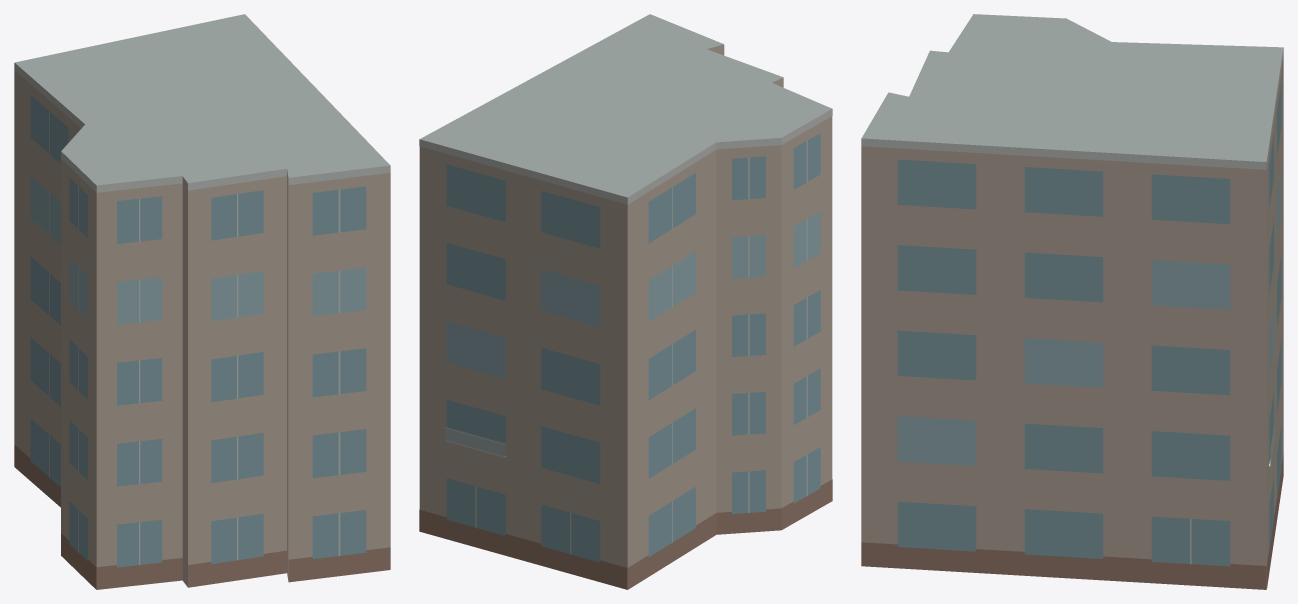
File: survey-upis-32876385.glb
3 renders of one model, left to right at view 1: azimuth 30°, elevation 25°; view 2: azimuth 150°, elevation 25°; view 3: azimuth 270°, elevation 25°, orthographic. The views are drawn at different scales.
Visible parts, largest first — view 1: survey-upis-32876385.tmp; view 2: survey-upis-32876385.tmp; view 3: survey-upis-32876385.tmp.
Part boxes in pixels (x1,y1,x2,y2): survey-upis-32876385.tmp: (14,14,390,589); survey-upis-32876385.tmp: (419,14,832,589); survey-upis-32876385.tmp: (861,14,1283,589).
Size of the model in its own units: 9.96 by 13.4 by 12.
